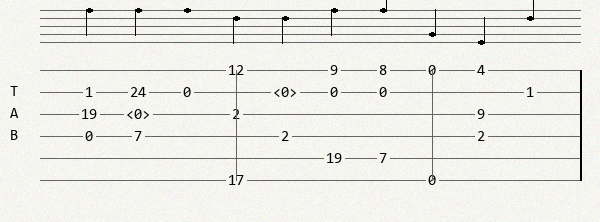0: (85, 129, 97, 143), (183, 85, 195, 99), (330, 85, 342, 99), (379, 85, 391, 99), (428, 173, 440, 187), (428, 63, 440, 77)
1: (85, 85, 97, 99), (526, 85, 538, 99)
12: (228, 63, 248, 77)
17: (228, 173, 248, 187)
19: (81, 107, 101, 121), (326, 151, 346, 165)
2: (232, 107, 244, 121), (281, 129, 293, 143), (477, 129, 489, 143)
24: (130, 85, 150, 99)
4: (477, 63, 489, 77)
7: (134, 129, 146, 143), (379, 151, 391, 165)
8: (379, 63, 391, 77)
9: (330, 63, 342, 77), (477, 107, 489, 121)
harmonic: (126, 107, 154, 121), (273, 85, 301, 99)
